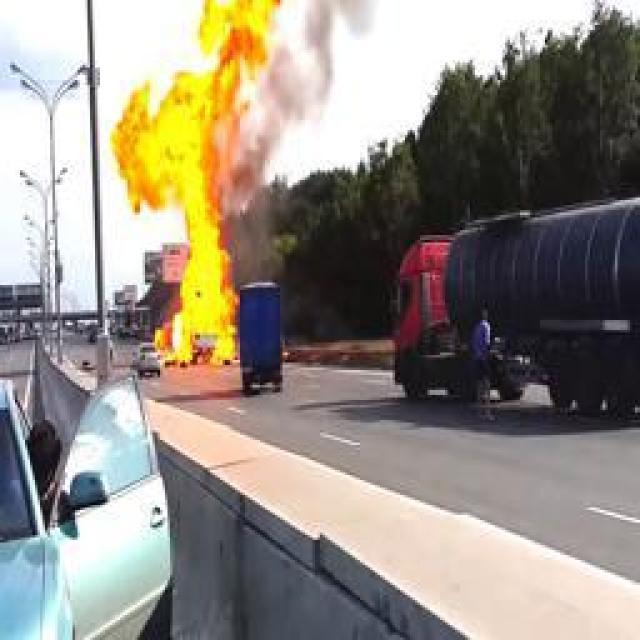Fire: (112, 0, 272, 370)
